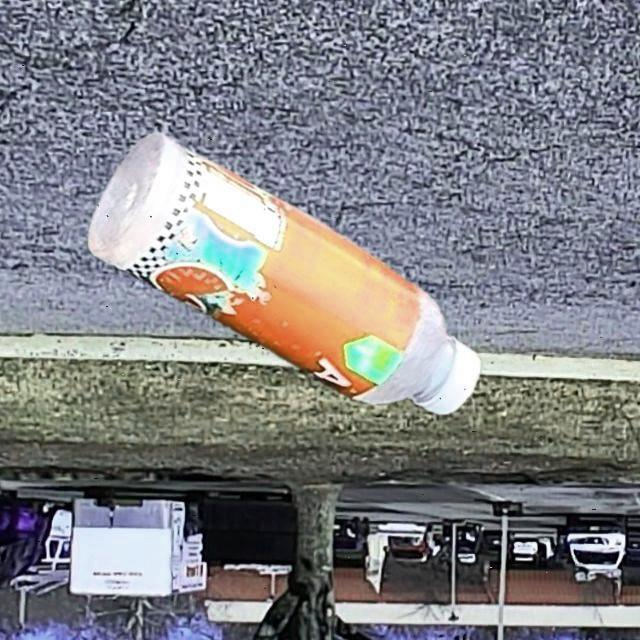Plastic: (81, 123, 486, 419)
